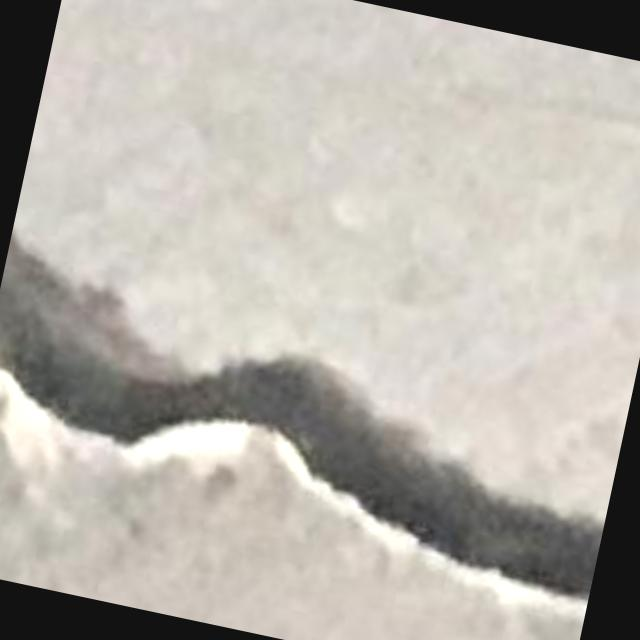crack: (0, 233, 603, 597)
